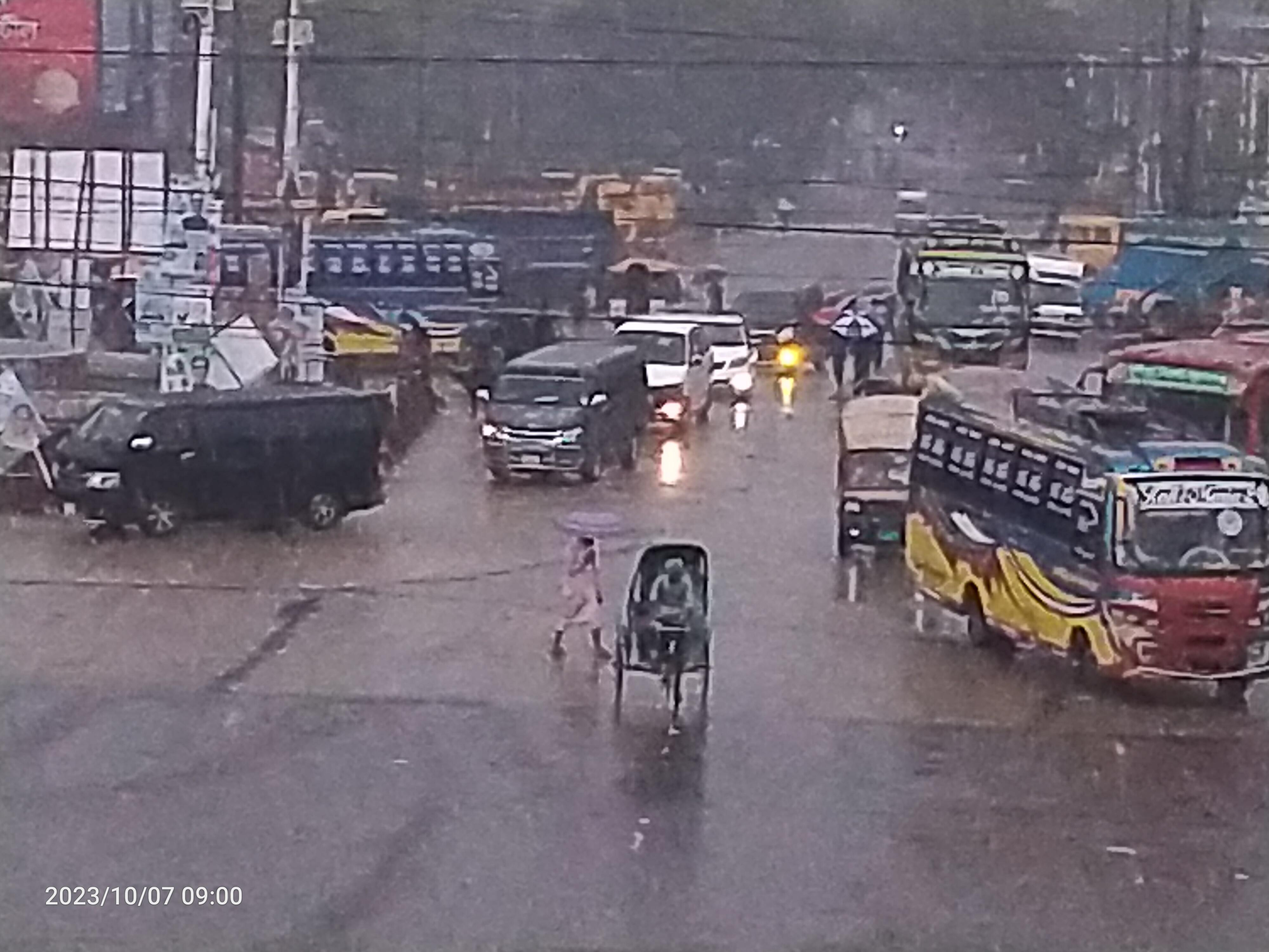Bus: (881, 338, 1269, 728), (136, 196, 527, 387), (882, 186, 1050, 396)
Car: (16, 346, 423, 551), (447, 309, 669, 509), (595, 501, 733, 779), (814, 361, 953, 578), (600, 297, 728, 450), (1017, 239, 1086, 376), (700, 303, 763, 418)
